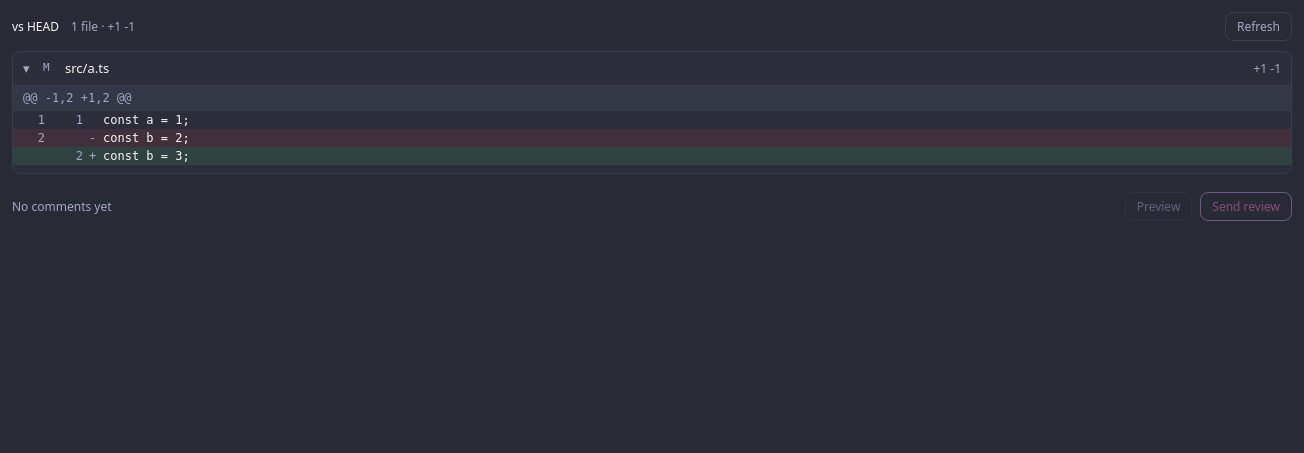
Test: ReviewPanel comments › previews the composed review text with line context
Expected: the text "vs HEAD" is shown, [12,18,59,35]
Expected: the button "Preview" is disabled, [1125,192,1192,221]
Click the button with aria-label "Comment on line 2". click: x=146, y=156
box: [13,147,1291,165]
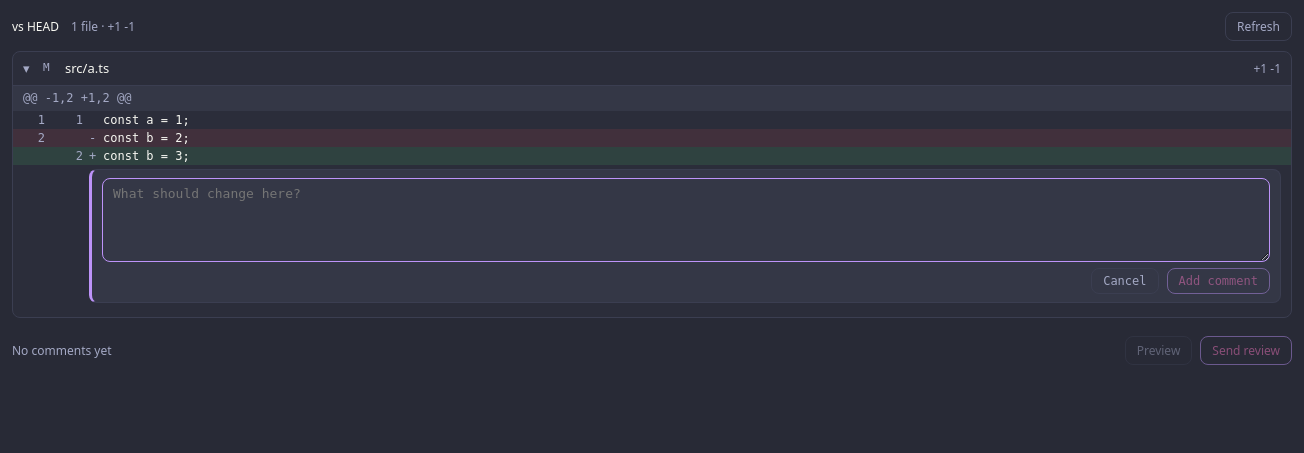
Type "use a constant" into the text box named "Comment". click: x=686, y=220
box: [102,178,1270,262]
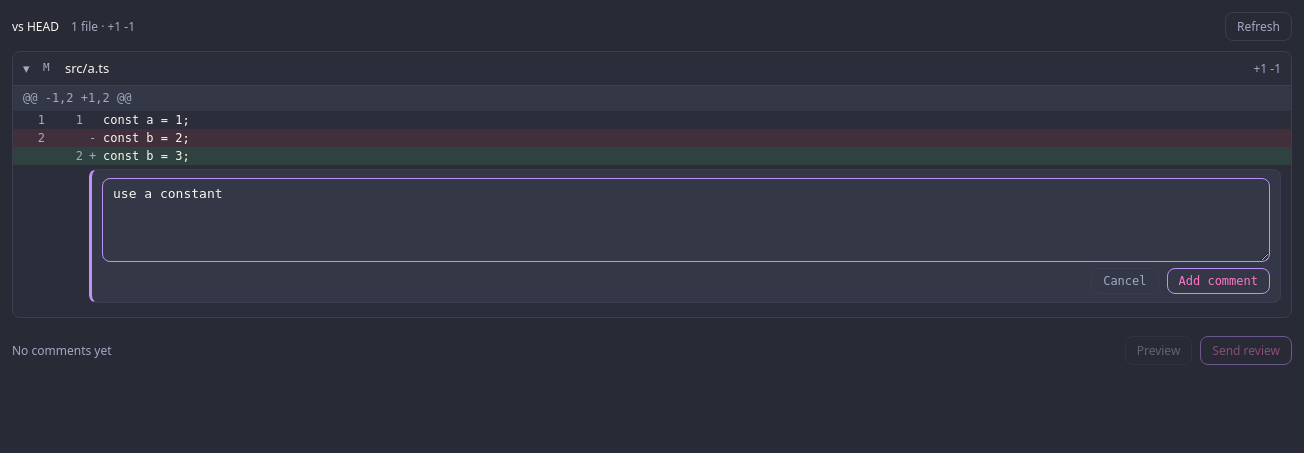
Click the button "Add comment". click: x=1218, y=281
box: [1166,268,1270,294]
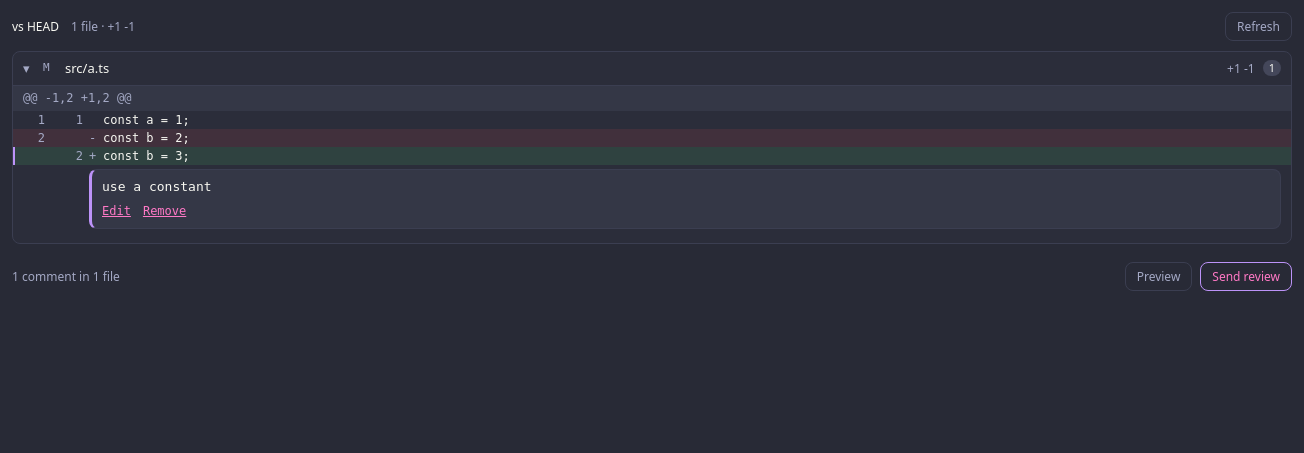
Click the button "Preview". click: x=1159, y=277
box: [1125,262,1192,292]
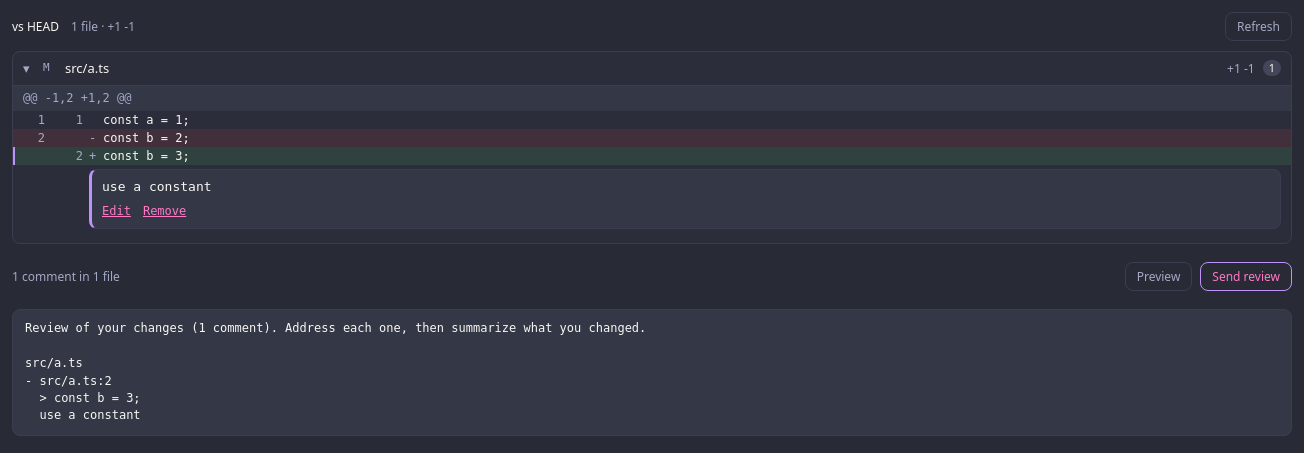
Now the text with class "rv__preview" shows "Review of your changes (1 comment).", box [25,322,646,422]
Now the text with class "rv__preview" shows "- src/a.ts:2", box [25,322,646,422]
Now the text with class "rv__preview" shows "> const b = 3;", box [25,322,646,422]
